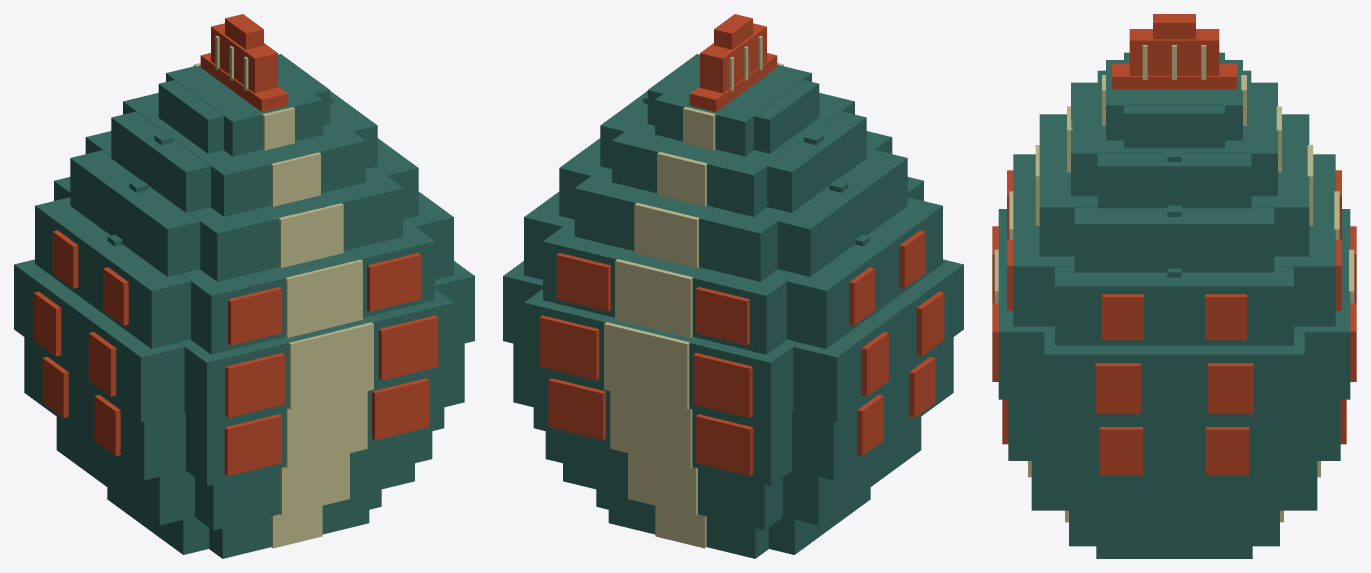
The model's file is SpinosaurusEgg.fbx.
3 renders of one model, left to right at view 1: azimuth 30°, elevation 25°; view 2: azimuth 150°, elevation 25°; view 3: azimuth 270°, elevation 25°, orthographic. The views are drawn at different scales.
Visible parts, largest first — view 1: ShellWide3, ShellWide4, ShellWide5, Shell5, Shell4, Shell6, Shell3, ShellWide2, ShellWide6, Shell1, ShellWide1, Belly3_1 (+27 smaller); view 2: ShellWide3, ShellWide4, ShellWide5, Shell5, Shell4, Shell6, Shell3, ShellWide2, ShellWide6, Shell1, Belly3_-1, ShellWide1 (+27 smaller); view 3: ShellWide3, ShellWide4, ShellWide5, Shell4, ShellWide2, ShellWide1, Shell5, Shell3, ShellWide6, Shell6, Shell2, ShellWide0 (+18 smaller).
Part boxes in pixels (box(x1,y1,x2,y2)): ShellWide3: box(14, 259, 474, 422); ShellWide4: box(35, 191, 453, 348); ShellWide5: box(70, 138, 418, 276); Shell5: box(85, 131, 403, 281); Shell4: box(54, 177, 434, 354); Shell6: box(123, 93, 365, 216); Shell3: box(179, 289, 453, 428); ShellWide2: box(24, 337, 464, 480); ShellWide6: box(111, 91, 377, 212); Shell1: box(195, 435, 414, 530); ShellWide1: box(56, 417, 432, 525); Belly3_1: box(288, 322, 373, 409); ShellWide3: box(503, 259, 963, 422); ShellWide4: box(524, 191, 942, 348); ShellWide5: box(559, 138, 907, 276); Shell5: box(574, 131, 892, 281); Shell4: box(543, 177, 923, 354); Shell6: box(612, 93, 854, 216); Shell3: box(524, 289, 798, 428); ShellWide2: box(513, 337, 953, 480); ShellWide6: box(600, 91, 866, 212); Shell1: box(563, 435, 782, 530); Belly3_-1: box(604, 322, 689, 409); ShellWide1: box(545, 417, 921, 525); ShellWide3: box(1044, 332, 1304, 420); ShellWide4: box(1055, 266, 1293, 345); ShellWide5: box(1074, 207, 1274, 272); Shell4: box(1013, 154, 1335, 326); ShellWide2: box(1051, 421, 1297, 481); ShellWide1: box(1069, 481, 1279, 527); Shell5: box(1039, 114, 1309, 256); Shell3: box(998, 209, 1350, 399); ShellWide6: box(1097, 70, 1251, 208); Shell6: box(1071, 82, 1277, 196); Shell2: box(1008, 399, 1340, 460); ShellWide0: box(1096, 528, 1252, 558).
Size of the model in its own units: 208 by 277 by 186.
